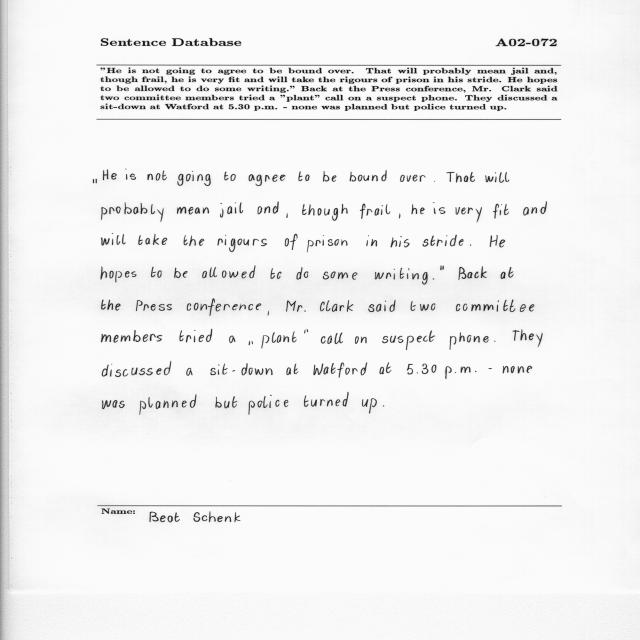word: (187, 299, 261, 316), (102, 202, 164, 222), (140, 394, 197, 415), (102, 361, 171, 377), (456, 299, 534, 312), (382, 331, 435, 350), (375, 268, 428, 285), (217, 235, 267, 252), (314, 362, 367, 378), (249, 395, 289, 415), (102, 330, 163, 343), (302, 204, 348, 221), (211, 363, 273, 375), (202, 266, 256, 279), (307, 236, 347, 253), (304, 392, 349, 407), (450, 333, 489, 350), (261, 332, 297, 349), (101, 267, 137, 283), (513, 330, 543, 348), (177, 171, 211, 186), (423, 235, 464, 247), (180, 329, 213, 343), (360, 204, 390, 219), (249, 174, 286, 186), (445, 366, 477, 379), (350, 170, 387, 181), (455, 207, 482, 222), (136, 300, 172, 311), (320, 300, 353, 312), (459, 266, 487, 280), (220, 203, 243, 218), (523, 202, 547, 216), (368, 300, 396, 312), (101, 233, 126, 246), (139, 234, 168, 245), (407, 364, 436, 375), (323, 271, 357, 280), (446, 172, 475, 182), (257, 202, 279, 215), (485, 172, 509, 183), (321, 332, 343, 344), (216, 397, 238, 409), (177, 207, 209, 215), (411, 301, 436, 311), (493, 204, 509, 219), (286, 300, 306, 312), (362, 398, 377, 414), (503, 366, 532, 374), (184, 235, 204, 246), (391, 236, 410, 247), (102, 300, 121, 311), (285, 234, 298, 250), (102, 400, 125, 409), (147, 171, 167, 181), (400, 175, 426, 182), (490, 235, 505, 247), (297, 267, 309, 280), (501, 267, 514, 279), (103, 169, 117, 180), (433, 202, 445, 214), (380, 362, 392, 374), (323, 171, 336, 182), (411, 205, 425, 215), (174, 268, 188, 278), (286, 364, 298, 375), (125, 169, 136, 180), (367, 236, 378, 247), (151, 267, 162, 278), (271, 268, 282, 279), (299, 172, 310, 182), (224, 172, 236, 181), (355, 336, 367, 344), (186, 368, 192, 376), (229, 336, 235, 343), (93, 179, 97, 183), (440, 266, 444, 270), (249, 341, 253, 345), (304, 329, 308, 333), (286, 213, 288, 218), (267, 311, 269, 316), (399, 214, 400, 219), (489, 368, 492, 369), (470, 244, 471, 246), (433, 278, 434, 280), (494, 341, 496, 342), (434, 181, 435, 182), (383, 406, 384, 407)
